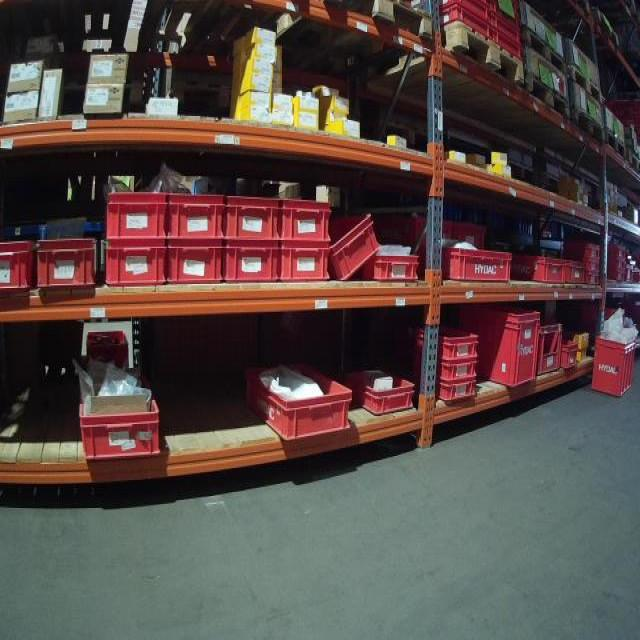pallet: (367, 21, 529, 119), (238, 1, 436, 78), (523, 70, 570, 129), (522, 29, 569, 78), (568, 66, 606, 105), (573, 110, 602, 149), (602, 128, 626, 168), (628, 150, 640, 180)
small_load_carrier: (246, 363, 356, 443), (76, 373, 167, 463), (451, 306, 540, 387), (331, 201, 384, 287), (344, 362, 422, 418), (34, 234, 102, 291), (103, 239, 170, 291), (435, 241, 514, 285), (101, 191, 168, 241), (166, 193, 226, 244), (165, 240, 226, 288), (591, 333, 636, 398), (221, 241, 283, 288), (279, 197, 334, 247), (225, 195, 283, 241), (414, 323, 479, 358), (278, 243, 332, 284), (513, 252, 563, 291), (1, 236, 34, 295), (436, 9, 493, 43), (536, 317, 566, 377), (363, 254, 420, 285), (414, 376, 478, 403), (414, 359, 480, 385), (437, 1, 492, 22), (493, 1, 522, 32), (491, 17, 522, 45), (558, 240, 602, 257), (497, 35, 524, 59), (564, 256, 582, 289), (562, 339, 578, 370), (574, 270, 598, 290), (574, 258, 602, 272), (605, 239, 626, 256), (604, 268, 624, 284), (604, 256, 626, 268)
